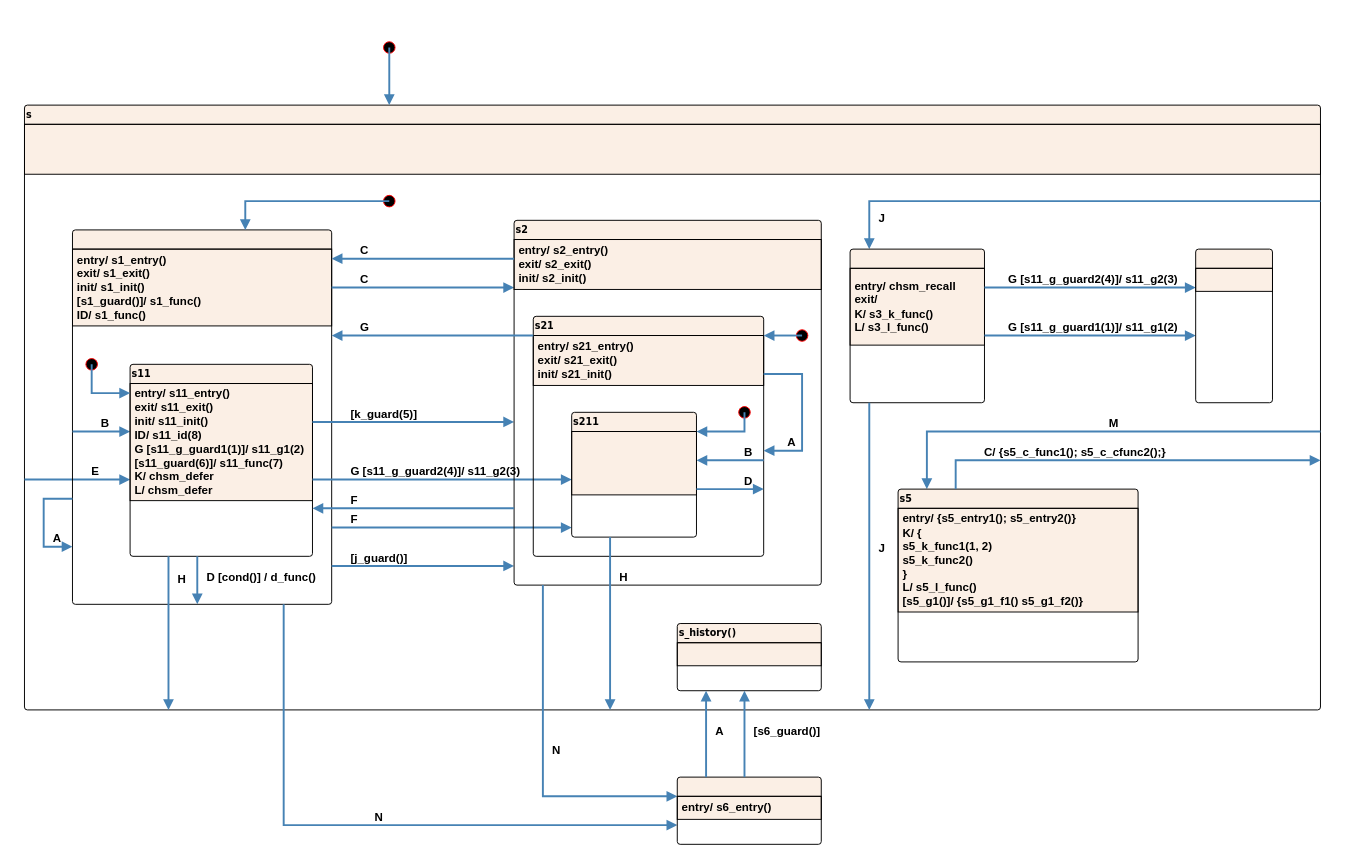
The diagram is 1345 pixels wide and 861 high, and some of its shapes have lost their labels. The shapes that lost their labels are listed below. From the top down, each one's box as (x1, y1, x2, y2) in pixels, then its label:
(24, 123, 1320, 174): entry/ s_entry() exit/ {s_exit(); s_save_history() } init/ s_init()
(1195, 267, 1272, 291): ID/ s4_id()
(849, 248, 984, 403): s3
(1195, 248, 1272, 403): s4
(72, 229, 332, 604): s1
(571, 431, 696, 495): entry/ s211_entry() exit/ s211_exit(6) init/ s211_init() ID/ s211_id()
(676, 776, 821, 844): s6
